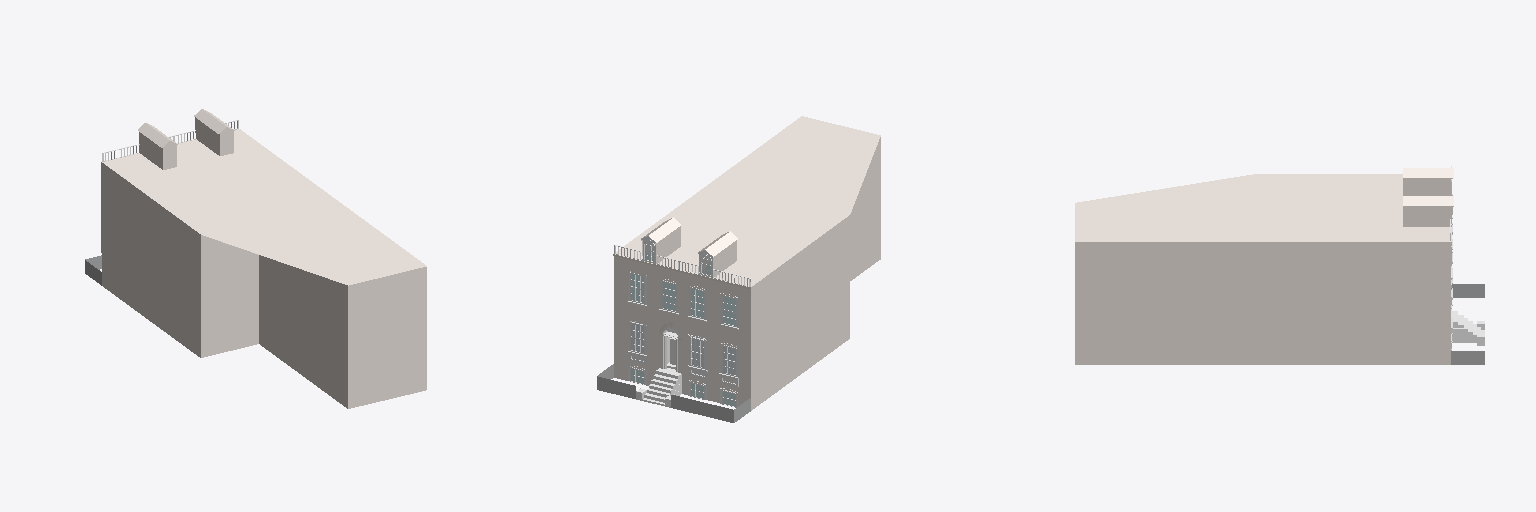
Rendered from marbleNew.obj.
The picture shows the model from 3 angles: view 1: azimuth 30°, elevation 25°; view 2: azimuth 150°, elevation 25°; view 3: azimuth 270°, elevation 25°; orthographic projection.
Visible parts, largest first — view 1: Mesh10 Model, Mesh16 Model; view 2: Mesh10 Model, Mesh16 Model; view 3: Mesh10 Model, Mesh16 Model.
Boxes of the visible parts, x1=… form: Mesh10 Model: x1=85, y1=129, x2=426, y2=408; Mesh16 Model: x1=102, y1=109, x2=234, y2=169; Mesh10 Model: x1=597, y1=116, x2=880, y2=422; Mesh16 Model: x1=641, y1=217, x2=750, y2=287; Mesh10 Model: x1=1075, y1=174, x2=1484, y2=364; Mesh16 Model: x1=1403, y1=166, x2=1453, y2=226.
Bounding box in the file's own units: 482 × 508 × 1245.